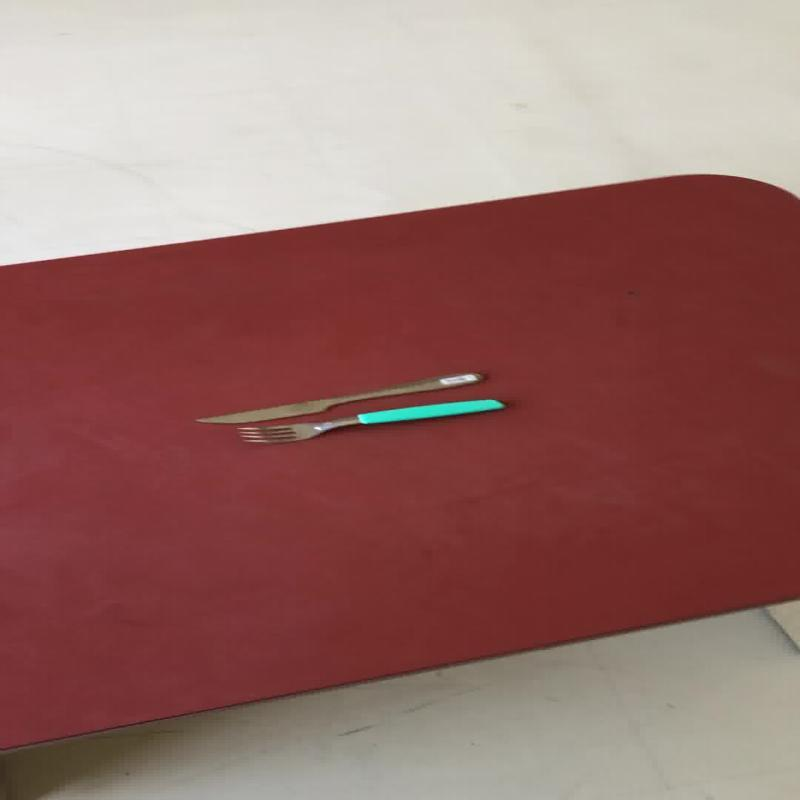fork: (235, 398, 506, 444)
knife: (191, 370, 485, 424)
